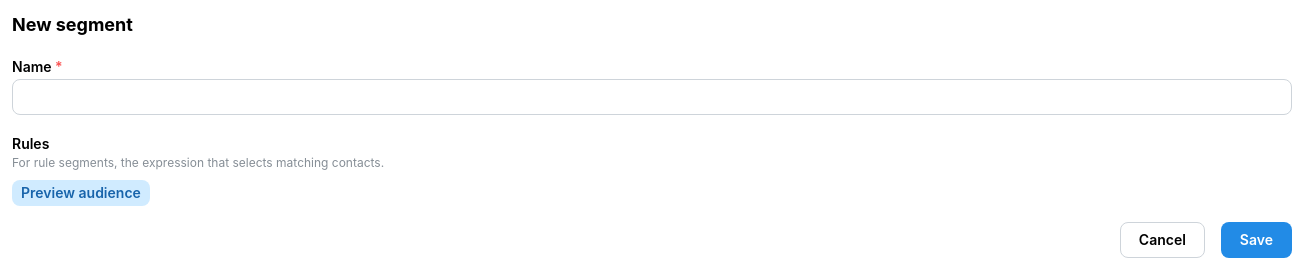
Scenario: creating a segment sends name and a rule, refreshes the list and opens the edit page; there is no type selector
The width and height of the screenshot is (1304, 275).
In the field labelled "Name *": (652, 97) [12,79,1292,115], type "Everyone"
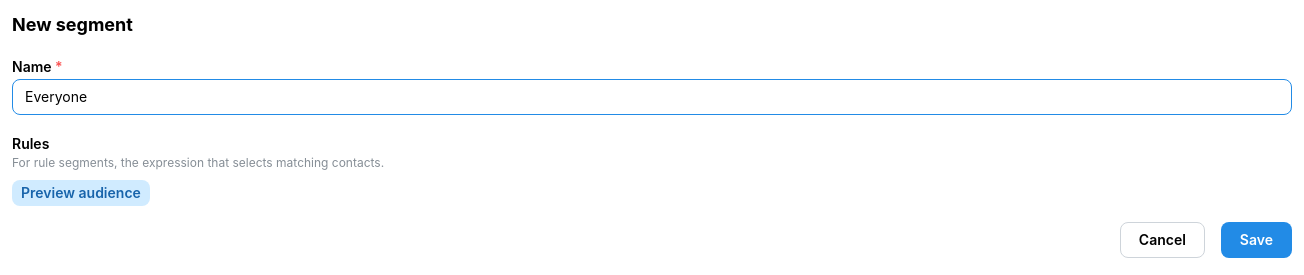
Click the button "Save": (1256, 240) [1221,222,1292,258]
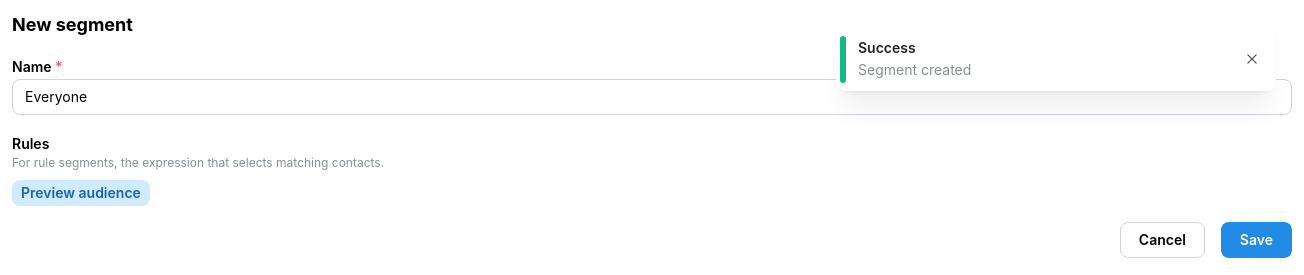
Expected: the text "Segment created" is shown, [858,61,971,78]
